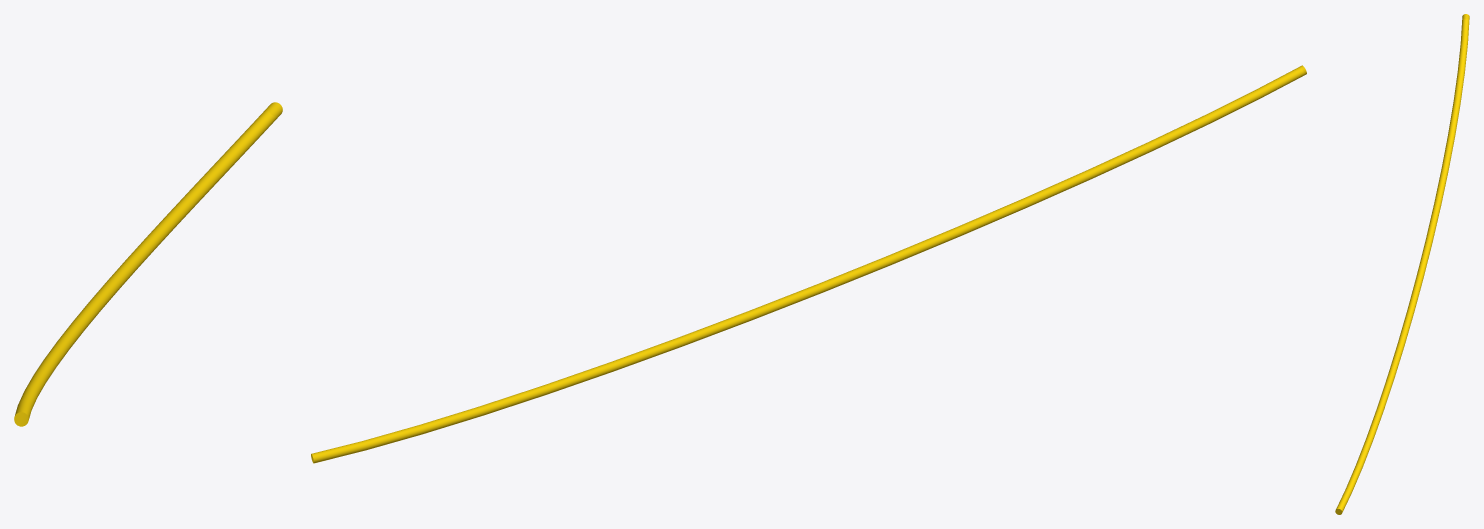
Rendered from Event_421278790_track_46.fbx.
3 renders of one model, left to right at view 1: azimuth 90°, elevation 25°; view 2: azimuth 210°, elevation 25°; view 3: azimuth 270°, elevation 25°, orthographic. The views are drawn at different scales.
Visible parts, largest first — view 1: Model; view 2: Model; view 3: Model.
Boxes of the visible parts, bbox=[...] form: Model: bbox=[14, 102, 282, 426]; Model: bbox=[311, 65, 1306, 463]; Model: bbox=[1335, 14, 1469, 514].
Bounding box in the file's own units: 4.2 × 1.06 × 0.7322.
